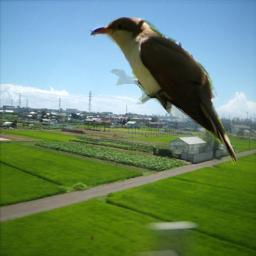Cuckoo: (87, 17, 236, 165)
